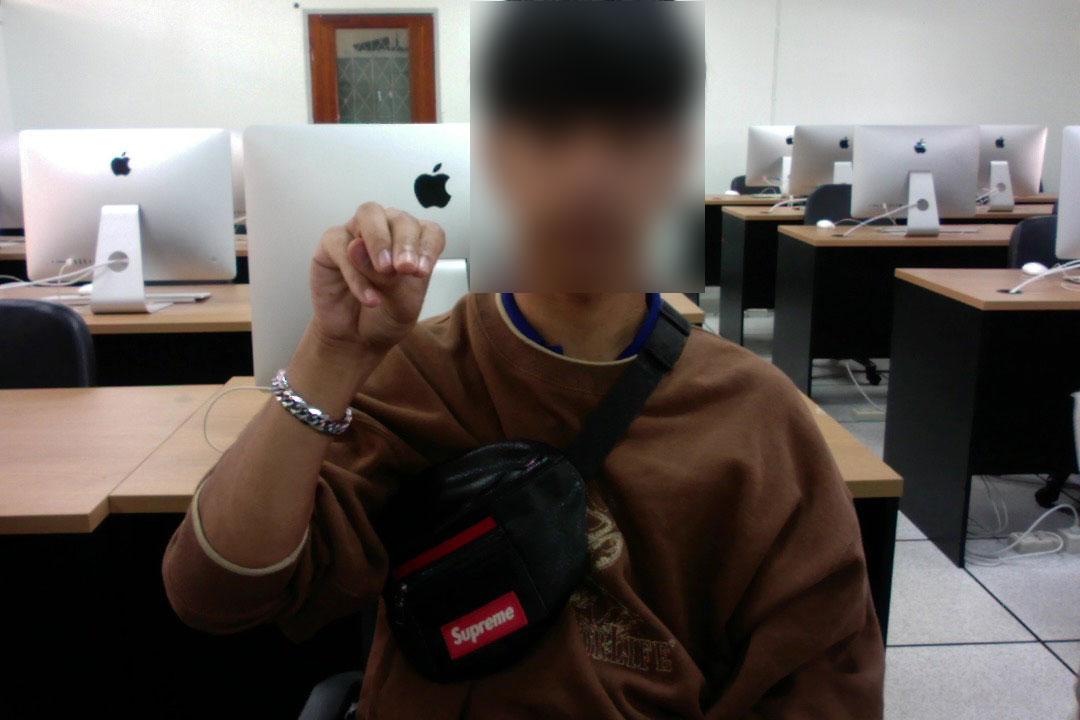mor: (297, 190, 453, 356)
